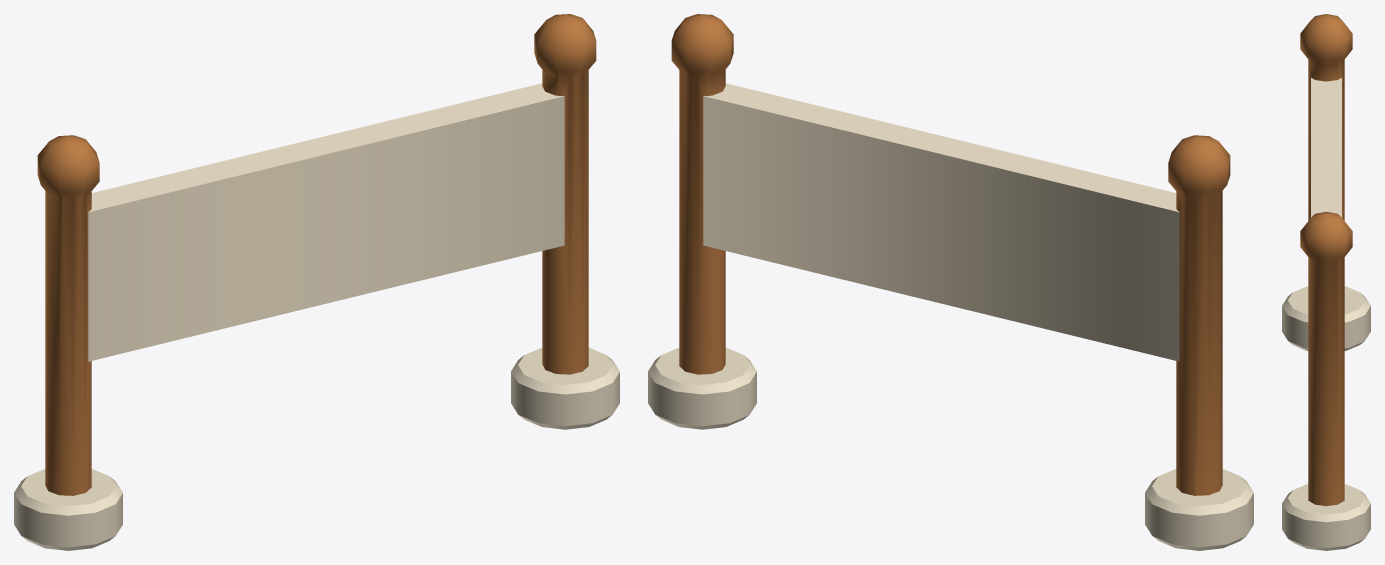
Rendered from campus-banner.glb.
3 views of the same model, side by side, from view 1: azimuth 30°, elevation 25°; view 2: azimuth 150°, elevation 25°; view 3: azimuth 270°, elevation 25° (orthographic). The views are drawn at different scales.
Visible parts, largest first — view 1: campus-banner; view 2: campus-banner; view 3: campus-banner.
Boxes of the visible parts, x1,y1,x2,y2 form: campus-banner: (14,14,619,550); campus-banner: (648,14,1253,550); campus-banner: (1282,14,1370,550).
Size of the model in its own units: 5.26 by 3.34 by 0.84.
2 materials, 2 textured.
